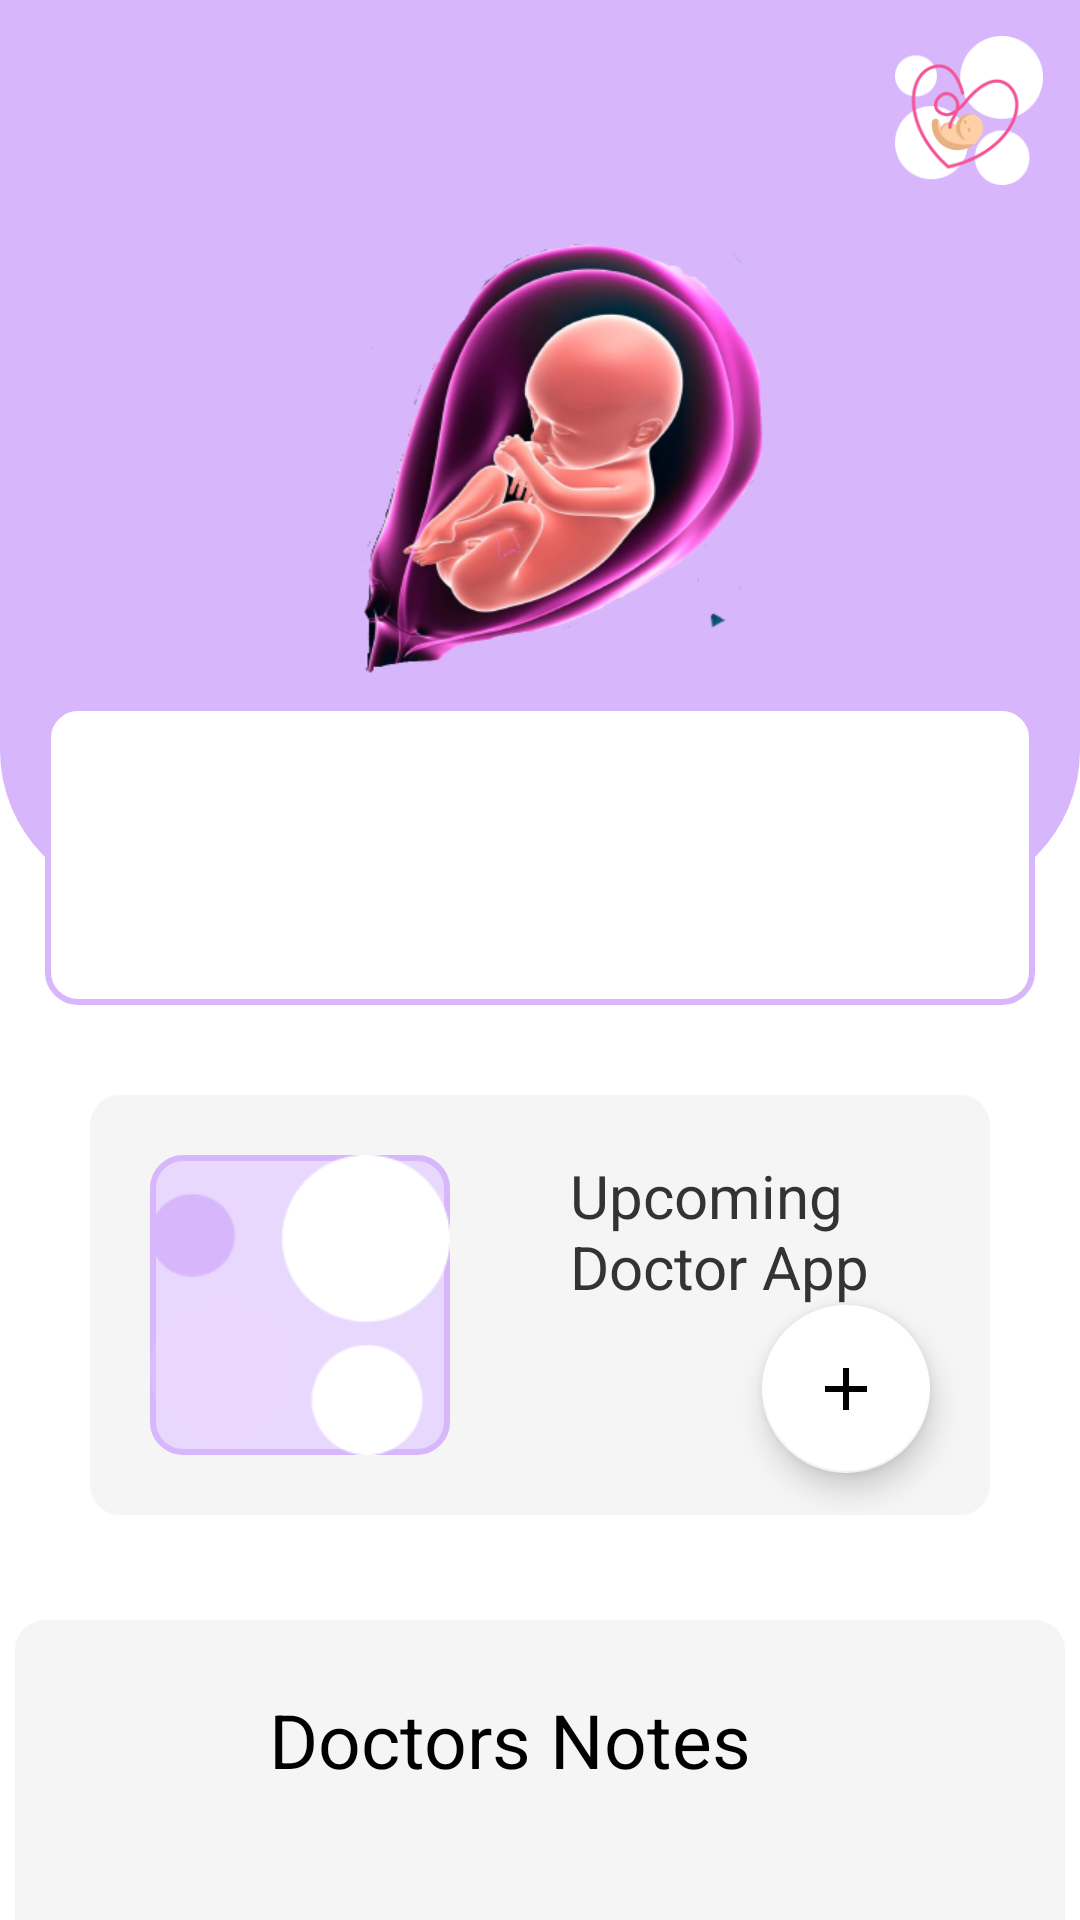

Where to tap for icons on this 1080w x 1920h app screen, as point (x, y):
add: point (846, 1389)
